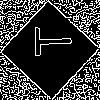T: (25, 25, 72, 58)
